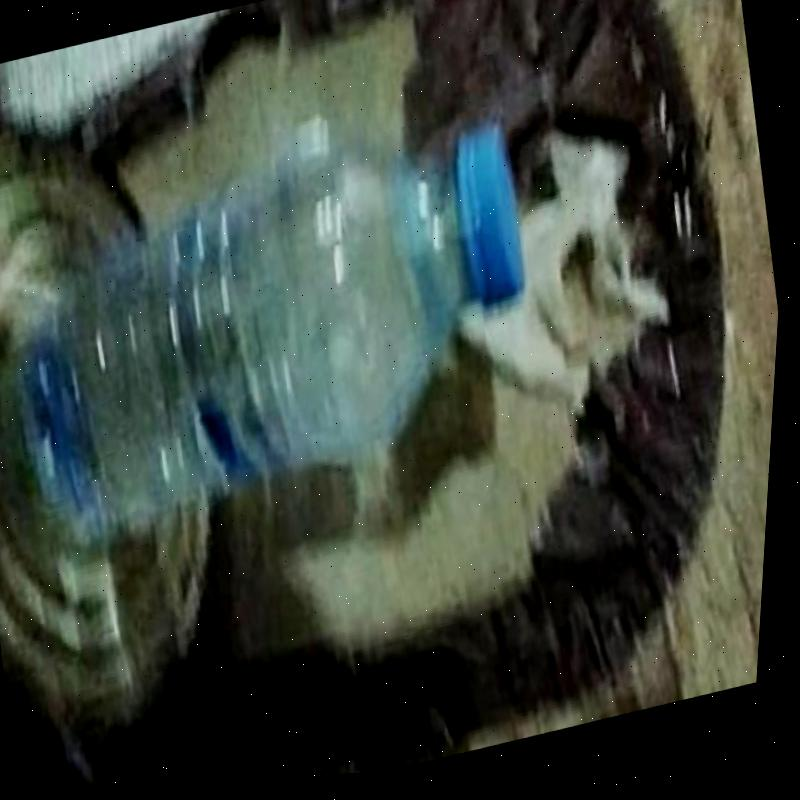botella: (0, 78, 568, 563)
